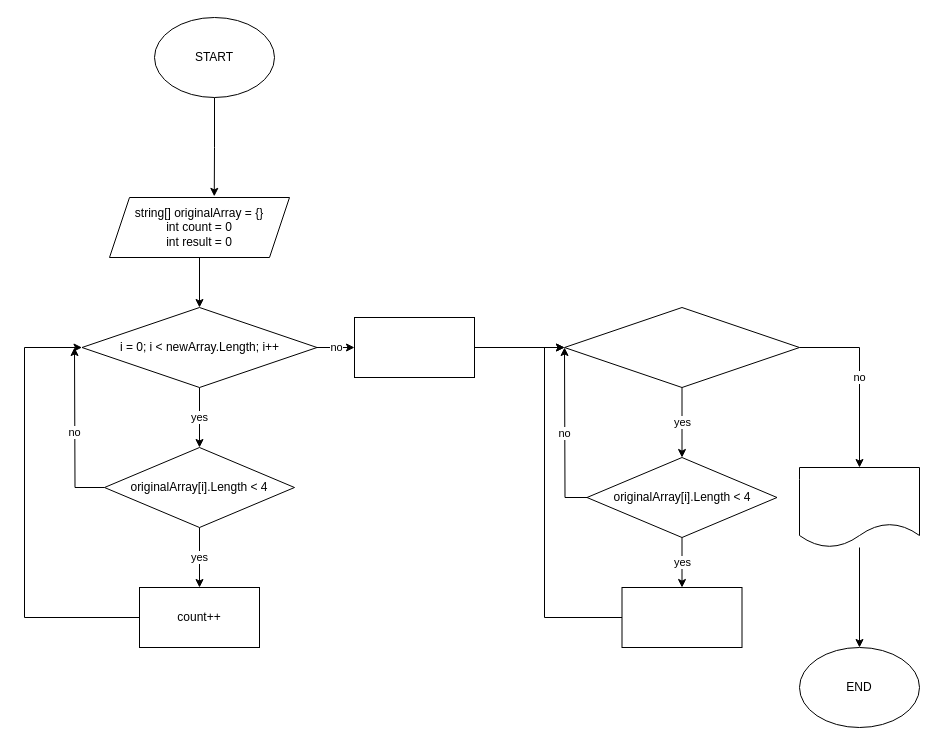
Image size: 937x745. Some labels were removed from this diagram. The box of each missing label's shape, as (x1, y1, x2, y2) in pixels:
int i = 0; i < 4; i++: (564, 306, 800, 388)
print sortedArray[]: (798, 466, 920, 548)
sortedArray[count]: (354, 316, 474, 378)
sortedArray[result++] = originalArray[i];: (621, 586, 742, 648)
